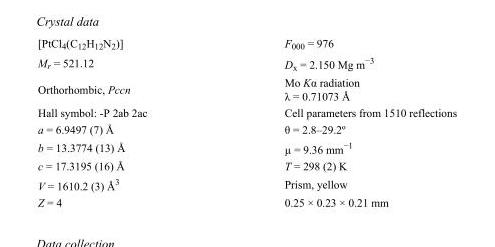table: (37, 36, 456, 208)
table column: (215, 36, 456, 208), (37, 36, 215, 208)
table row: (37, 73, 456, 103), (37, 52, 456, 73), (37, 137, 456, 157), (37, 174, 456, 193), (37, 103, 456, 120), (37, 120, 456, 137), (37, 157, 456, 174), (37, 36, 456, 52), (37, 193, 456, 208)
